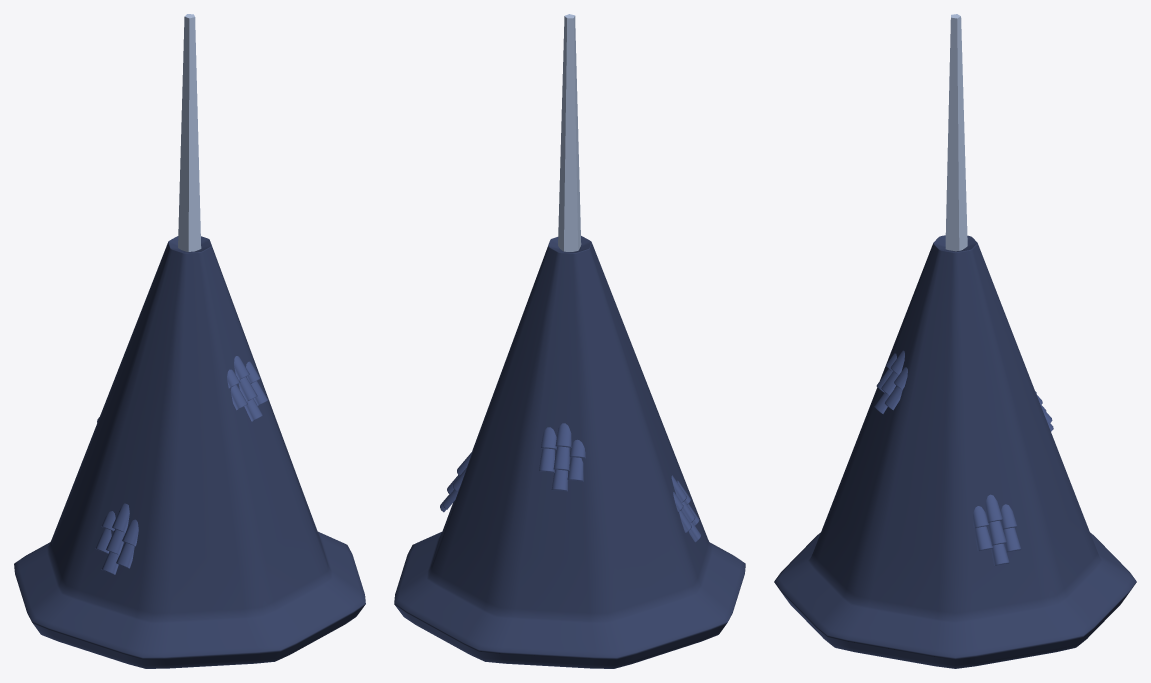
The model's file is BlueRoofingCone.fbx.
3 renders of one model, left to right at view 1: azimuth 30°, elevation 25°; view 2: azimuth 150°, elevation 25°; view 3: azimuth 270°, elevation 25°, orthographic.
Visible parts, largest first — view 1: Cylinder.046, Cylinder.045, Cube.094; view 2: Cylinder.046, Cylinder.045, Cube.094; view 3: Cylinder.046, Cylinder.045, Cube.094.
Part boxes in pixels (x1=…): Cylinder.046: x1=14, y1=236, x2=365, y2=668; Cylinder.045: x1=178, y1=14, x2=201, y2=251; Cube.094: x1=95, y1=356, x2=268, y2=574; Cylinder.046: x1=394, y1=236, x2=745, y2=668; Cylinder.045: x1=558, y1=14, x2=581, y2=251; Cube.094: x1=440, y1=423, x2=701, y2=542; Cylinder.046: x1=774, y1=235, x2=1136, y2=668; Cylinder.045: x1=945, y1=14, x2=967, y2=251; Cube.094: x1=874, y1=350, x2=1053, y2=565.
Bounding box in the file's own units: 888 × 888 × 1570.
